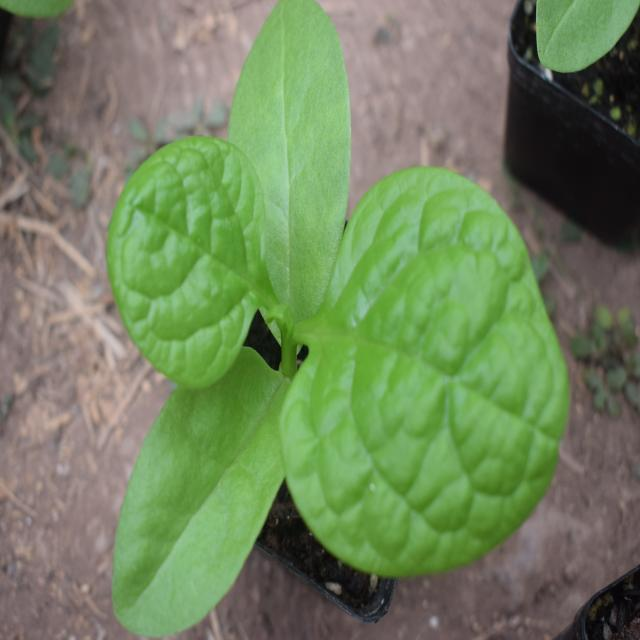Ceylon spinach: (105, 36, 562, 577)
